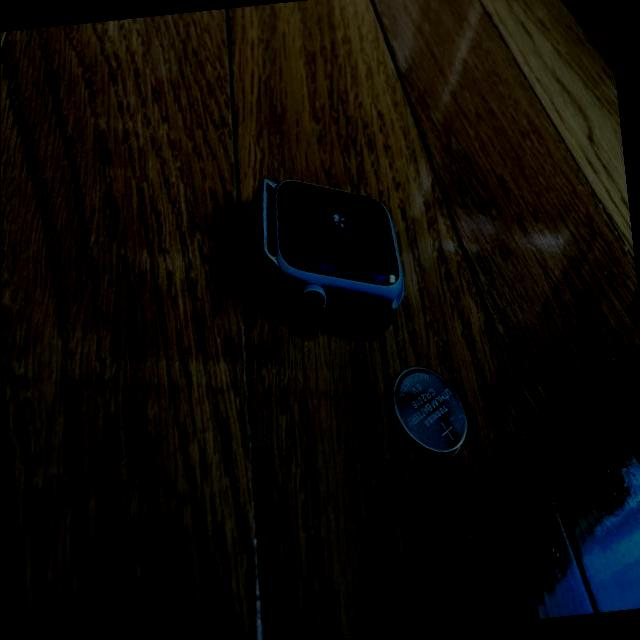COIN: (390, 360, 471, 460)
